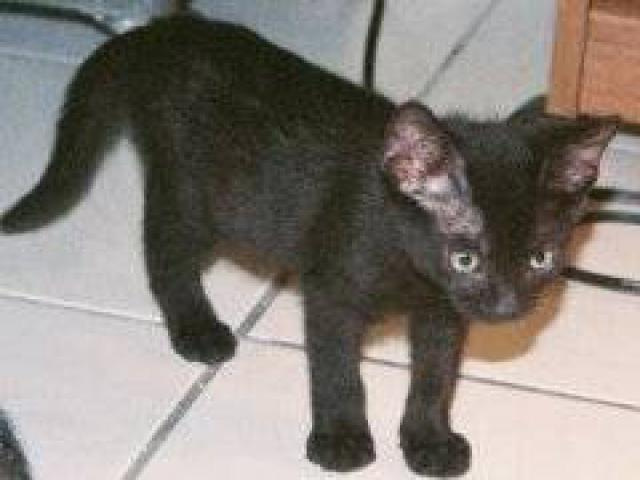cat: (2, 15, 628, 464)
